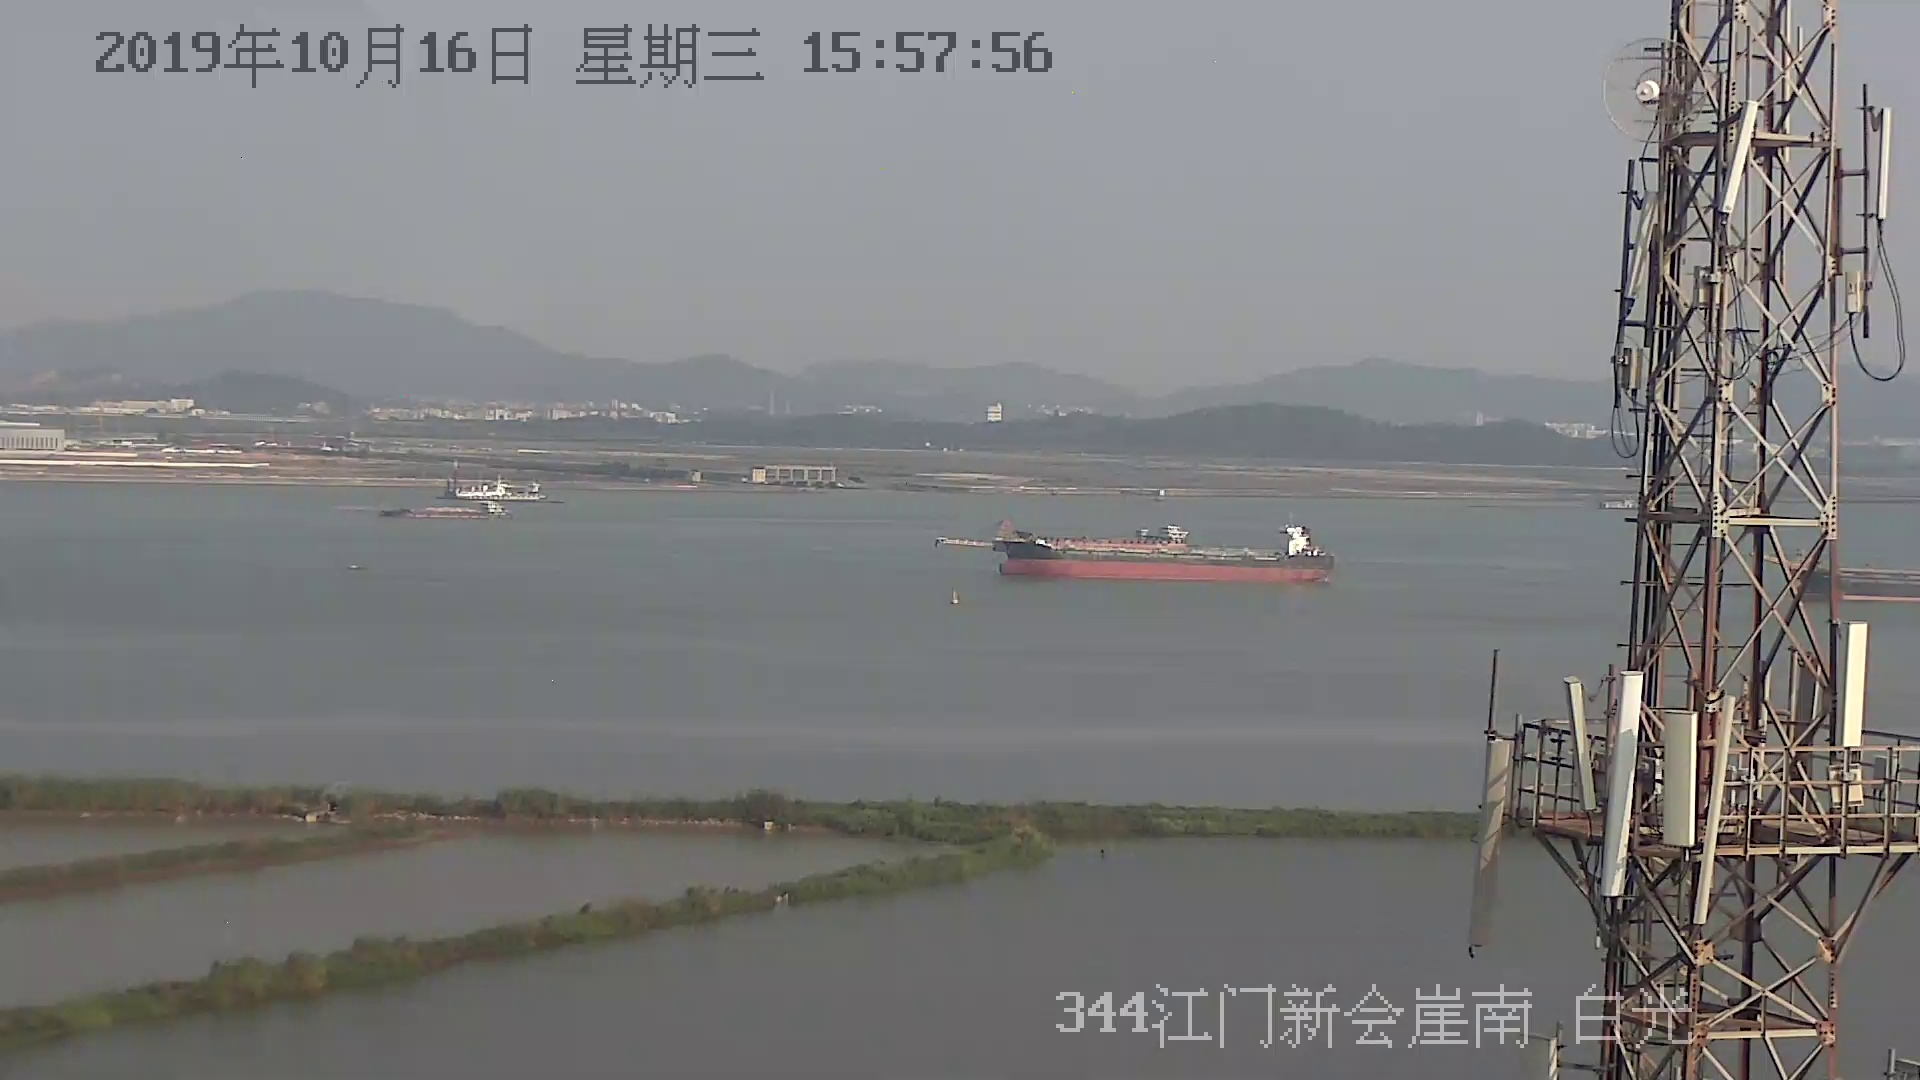ship: (936, 518, 1336, 583), (385, 493, 506, 522)
